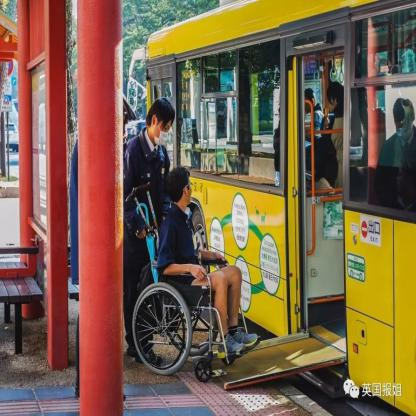wheelchair: (136, 162, 258, 378)
